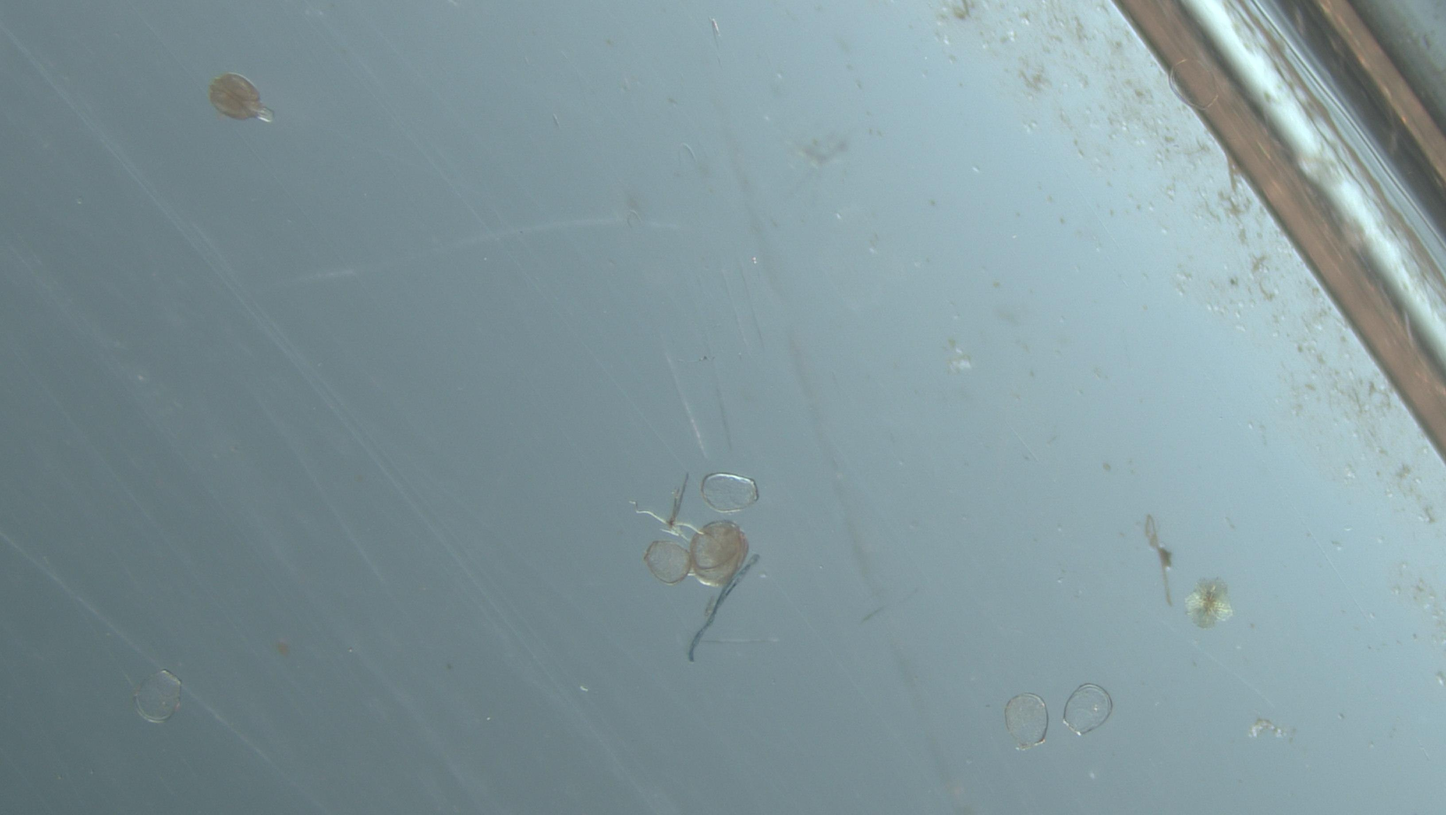dead: (1063, 684, 1113, 735), (134, 671, 182, 724), (1005, 695, 1049, 749), (701, 473, 759, 513), (644, 541, 692, 585), (714, 587, 733, 605)
live: (689, 520, 749, 587), (210, 74, 272, 123)
